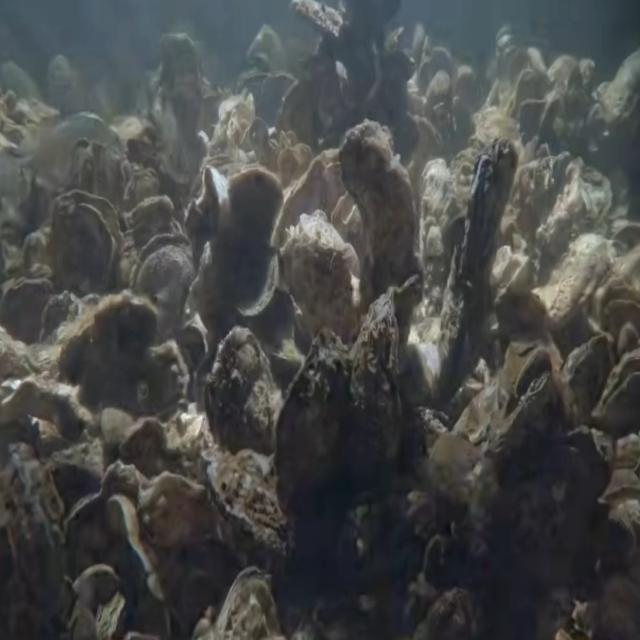Oyster-Closed: (338, 119, 416, 289), (204, 446, 297, 567), (213, 566, 281, 640), (0, 274, 61, 339)
Oyster-Indeterminate: (441, 138, 520, 367), (274, 323, 355, 518), (0, 440, 67, 639), (48, 295, 158, 403), (455, 344, 555, 459), (280, 209, 362, 347), (344, 290, 404, 471), (219, 161, 282, 326), (210, 325, 282, 455), (52, 188, 125, 299), (534, 231, 618, 325), (421, 159, 464, 324), (561, 332, 614, 414), (136, 339, 190, 418)
Oyster-Open: (130, 230, 195, 341), (191, 161, 229, 264), (594, 351, 640, 424)
